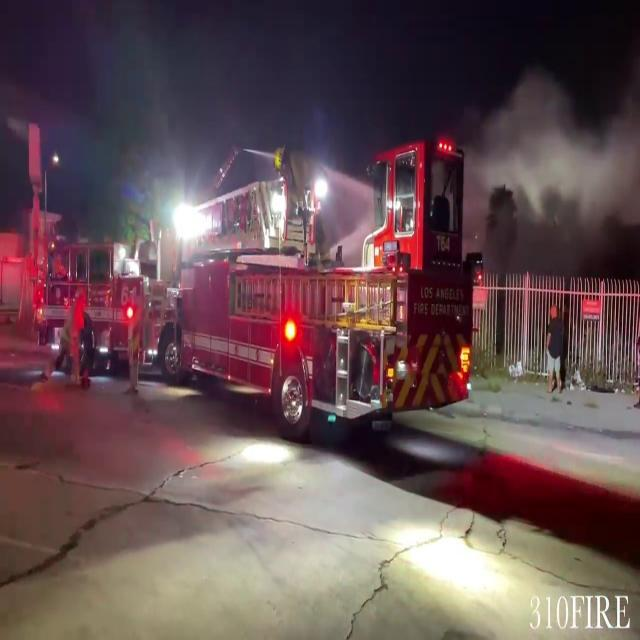Smoke: (484, 46, 640, 242)
